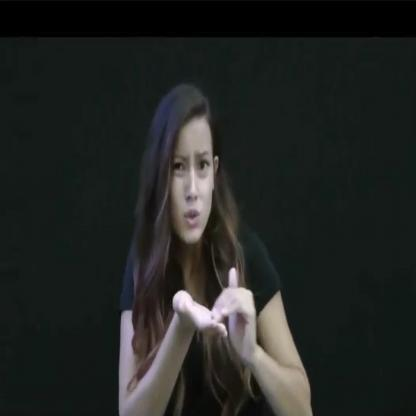ExcuseMe: (168, 264, 261, 367)
